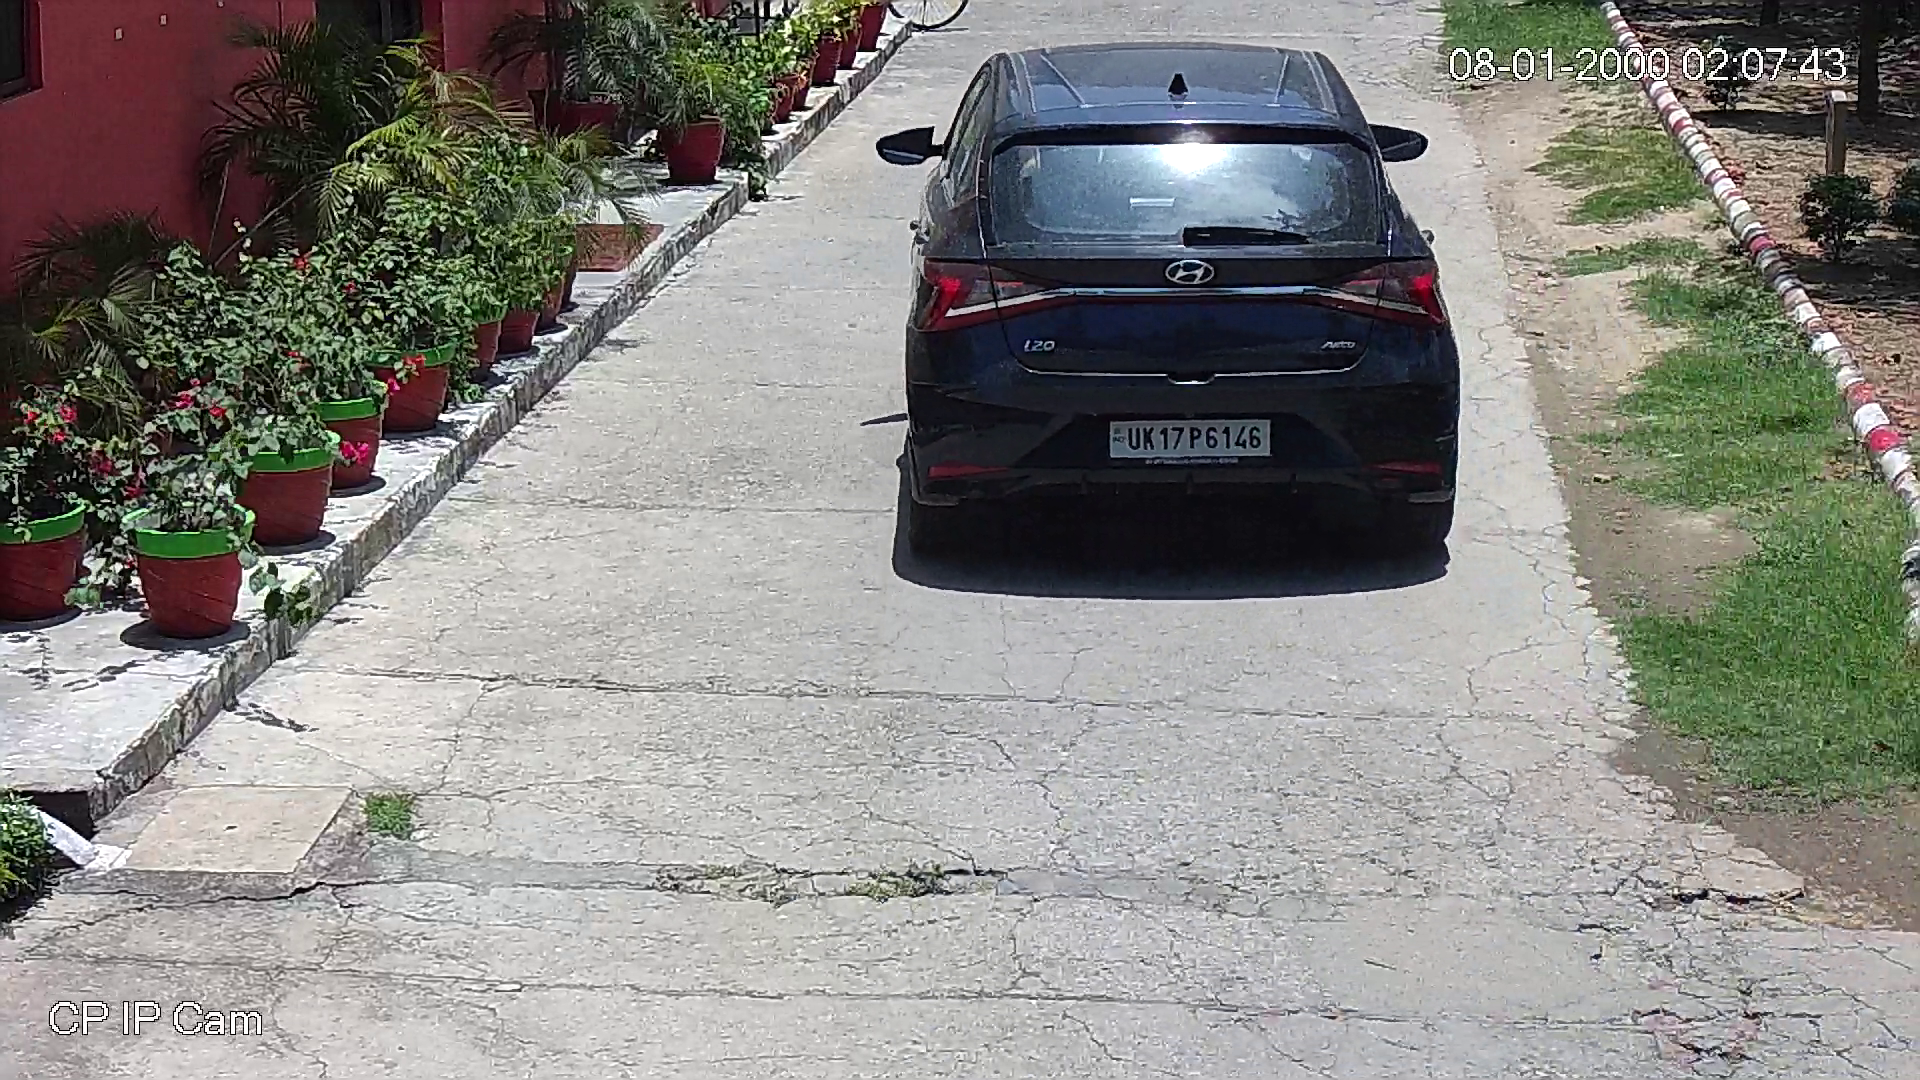plate: (1105, 410, 1279, 463)
